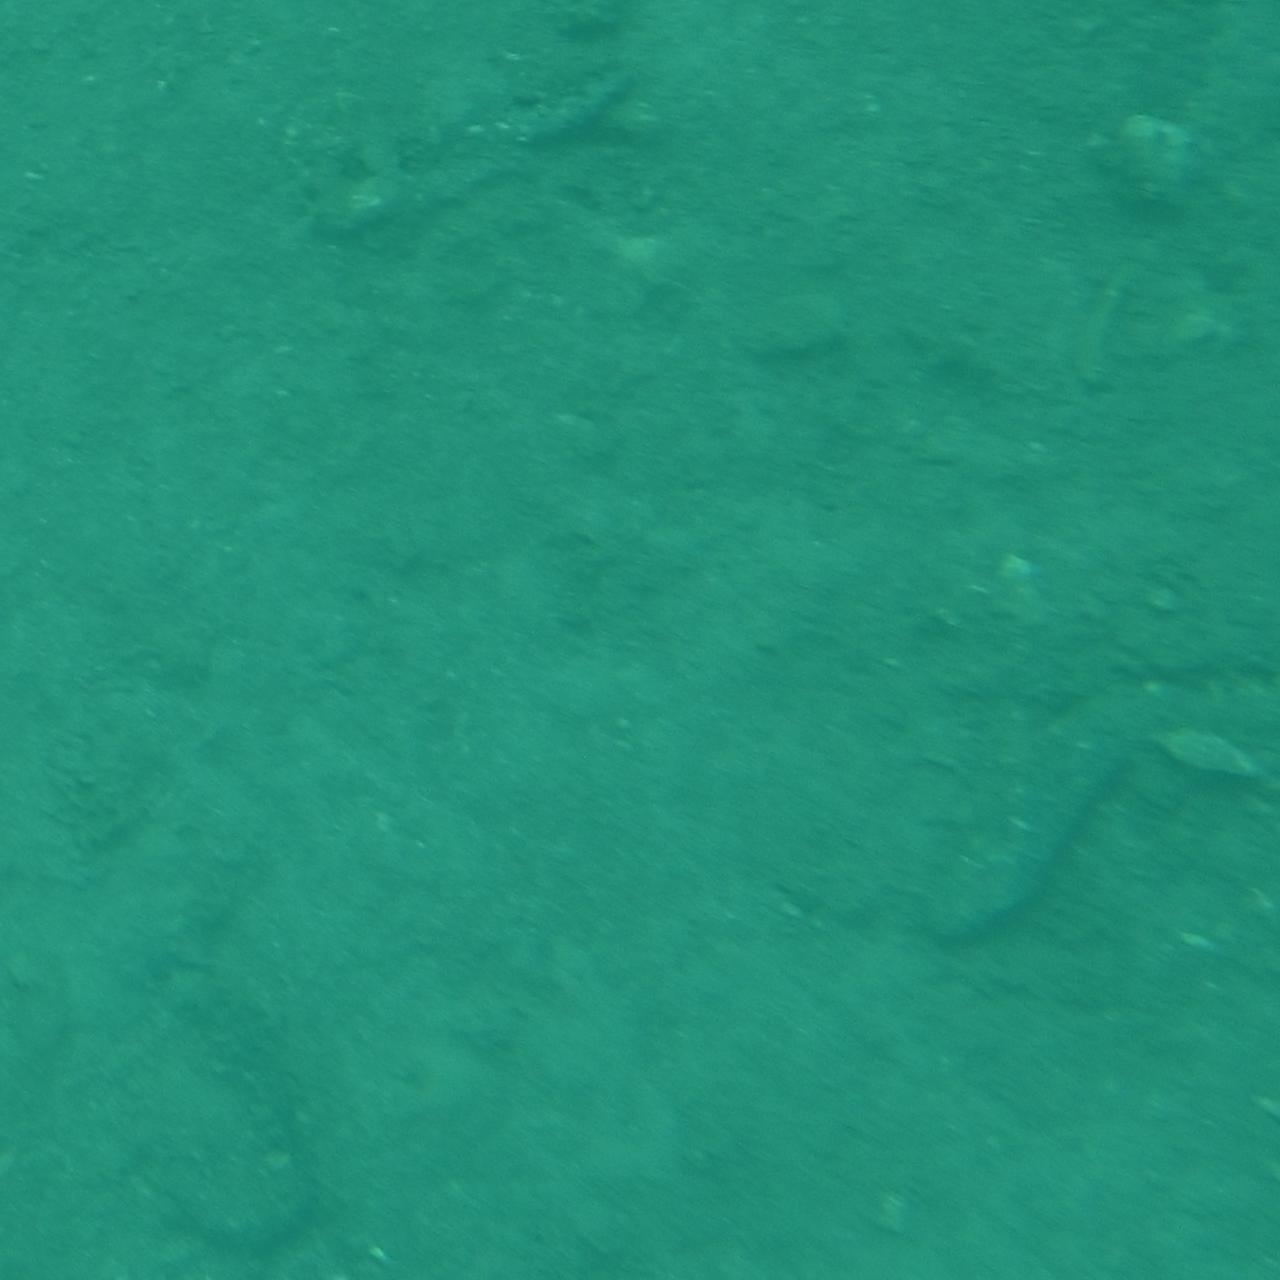Holothuria tubulosa: (97, 961, 356, 1275), (300, 63, 682, 261), (932, 704, 1177, 965)
